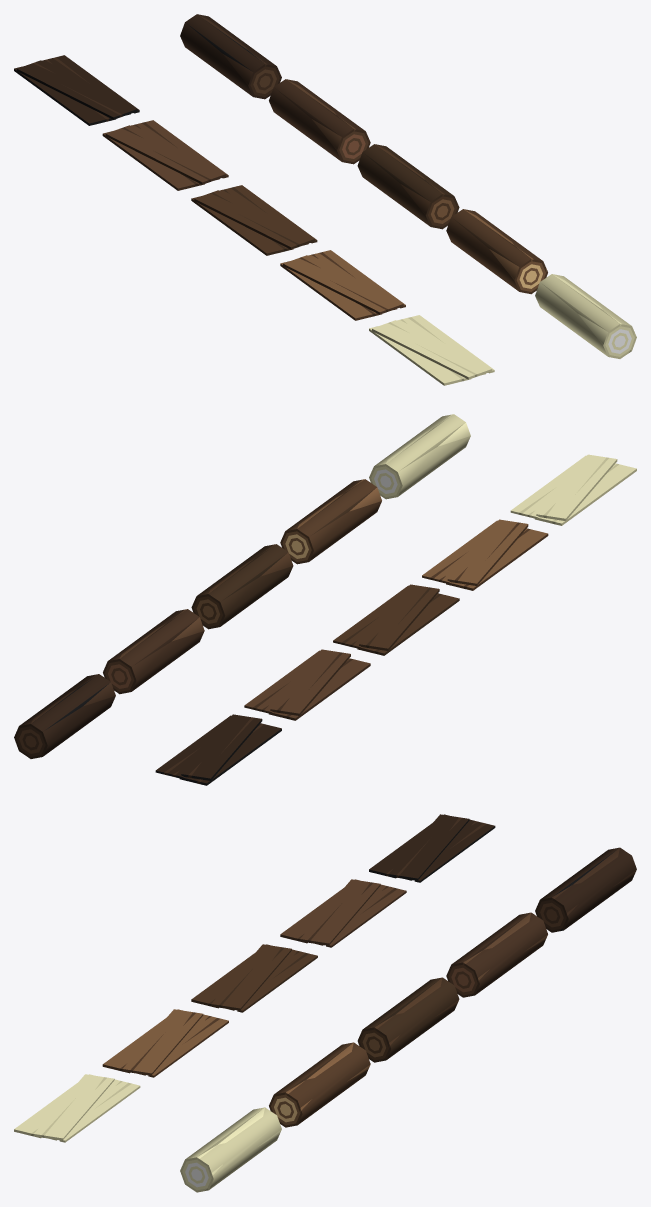
Rendered from wood.fbx.
3 views of the same model, one above another, from view 1: azimuth 30°, elevation 25°; view 2: azimuth 150°, elevation 25°; view 3: azimuth 330°, elevation 25° (orthographic).
Visible parts, largest first — view 1: BirchLog, Plank, OakPlank, BleachedPlank, DarkPlank, BirchPlank, OakLog, DarkLog, Log, BleachedLog; view 2: Plank, DarkPlank, BleachedPlank, BirchPlank, OakPlank, DarkLog, OakLog, Log, BleachedLog, BirchLog; view 3: BirchLog, OakLog, Log, DarkLog, BleachedLog, OakPlank, BleachedPlank, Plank, DarkPlank, BirchPlank.
Boxes of the visible parts, x1,y1,x2,y2 form: BirchLog: (535,274,636,358); Plank: (102,120,228,190); OakPlank: (191,185,317,255); BleachedPlank: (280,250,405,320); DarkPlank: (14,55,139,125); BirchPlank: (369,315,494,385); OakLog: (357,144,459,229); DarkLog: (180,14,281,99); Log: (269,79,370,164); BleachedLog: (446,209,547,294); Plank: (244,649,370,720); DarkPlank: (155,714,281,785); BleachedPlank: (422,519,548,590); BirchPlank: (510,454,636,525); OakPlank: (333,584,459,655); DarkLog: (14,674,115,758); OakLog: (191,544,293,629); Log: (103,609,204,694); BleachedLog: (280,479,381,564); BirchLog: (369,414,470,499); BirchLog: (180,1107,281,1192); OakLog: (357,977,459,1062); Log: (446,912,547,997); DarkLog: (535,847,636,932); BleachedLog: (269,1042,370,1127); OakPlank: (191,944,317,1012); BleachedPlank: (102,1009,228,1077); Plank: (280,879,406,947); DarkPlank: (369,814,495,882); BirchPlank: (14,1074,140,1142).
Bounding box in the file's own units: 1.28 × 0.2199 × 4.88.
